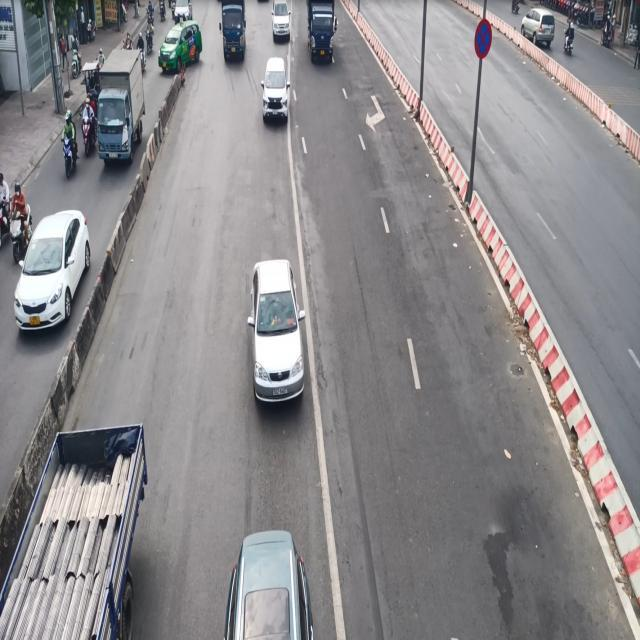car: (222, 529, 314, 639), (12, 209, 91, 333), (246, 258, 306, 405), (259, 55, 290, 122)
truck: (84, 46, 146, 166), (306, 0, 337, 64)
